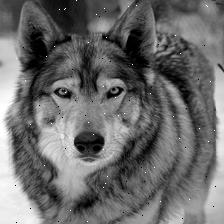WOLF: (9, 1, 215, 224)
